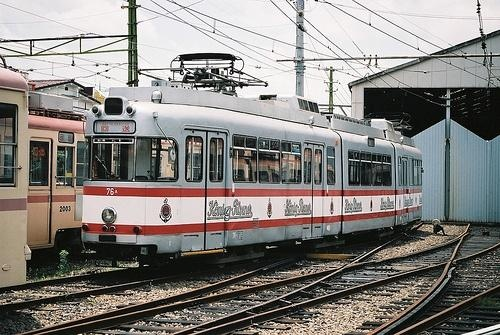train: (79, 87, 426, 272), (29, 118, 86, 258), (1, 68, 28, 292)
